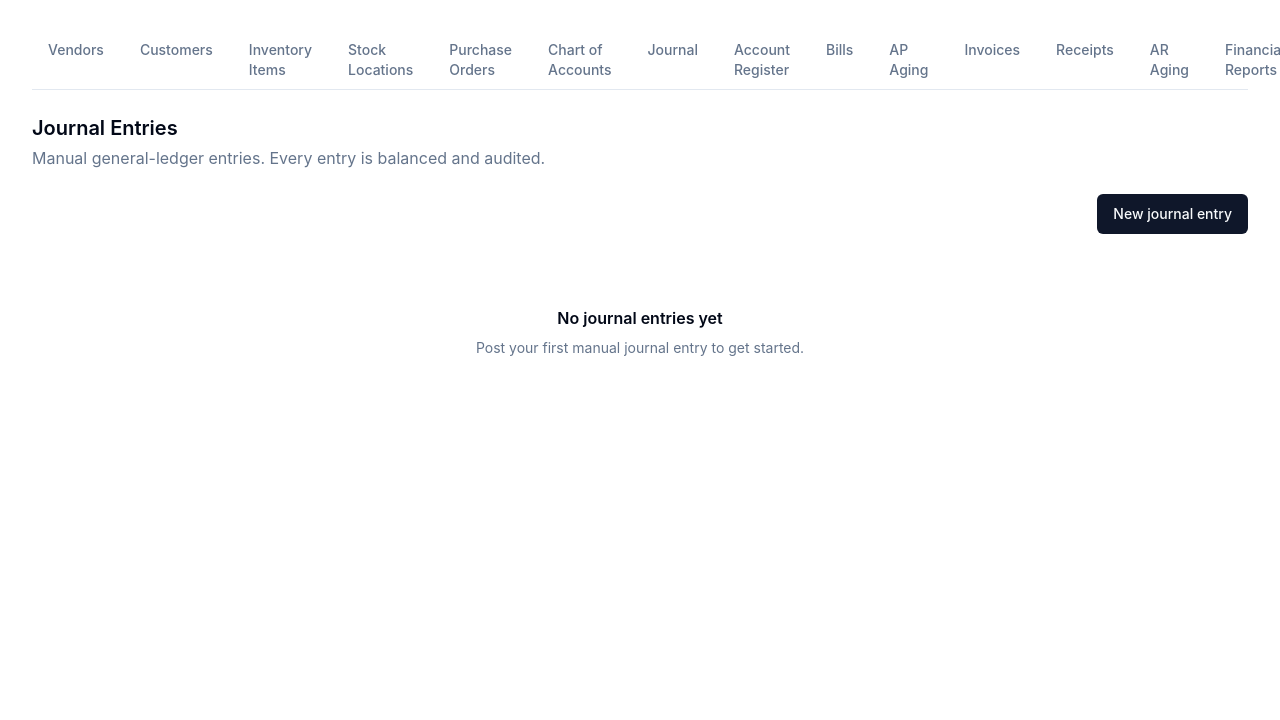
Scenario: JournalEntries screen › opens the dialog and appends a line
The width and height of the screenshot is (1280, 720).
Click the button "New journal entry" at x=1173, y=214, box [1097, 194, 1248, 234]
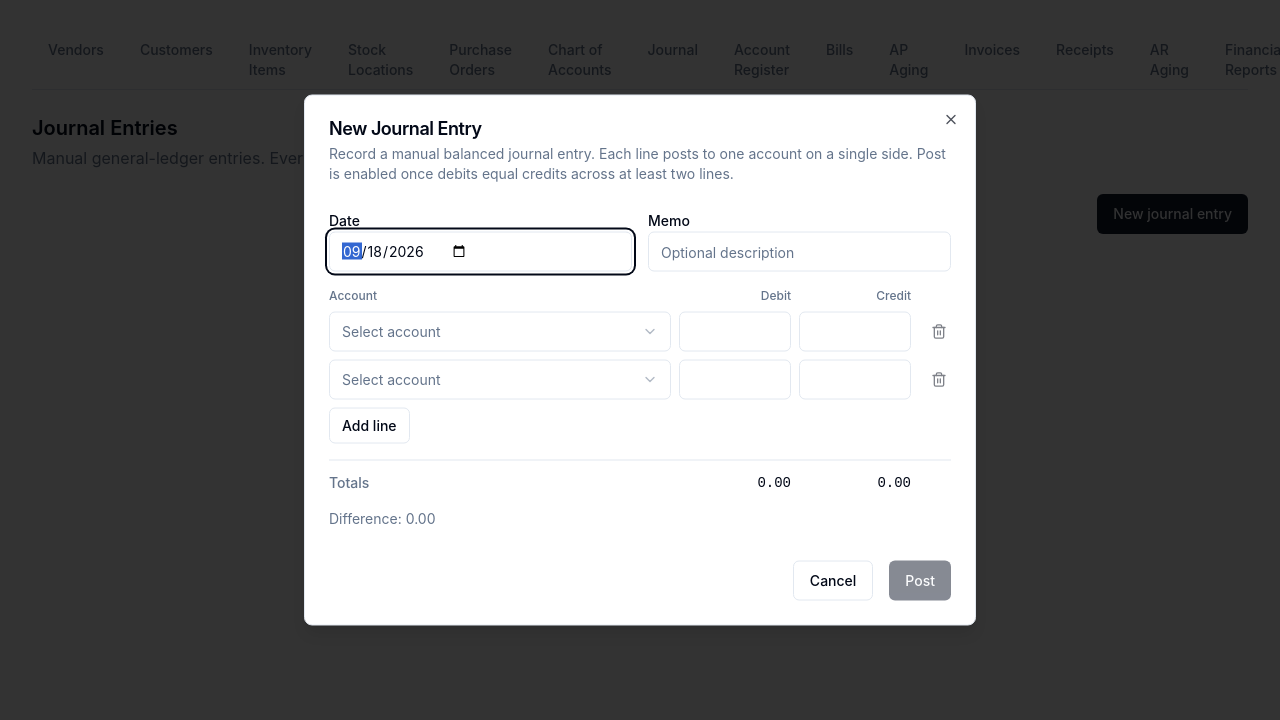
Result: the heading "New Journal Entry" is shown at [329, 118, 482, 138]
Result: the dropdown named "Line 1 account" is shown at [329, 312, 671, 352]
Result: the dropdown named "Line 2 account" is shown at [329, 360, 671, 400]
Note: "Add line" appends a third line.
Click the button "Add line" at x=369, y=426, box [329, 408, 410, 444]
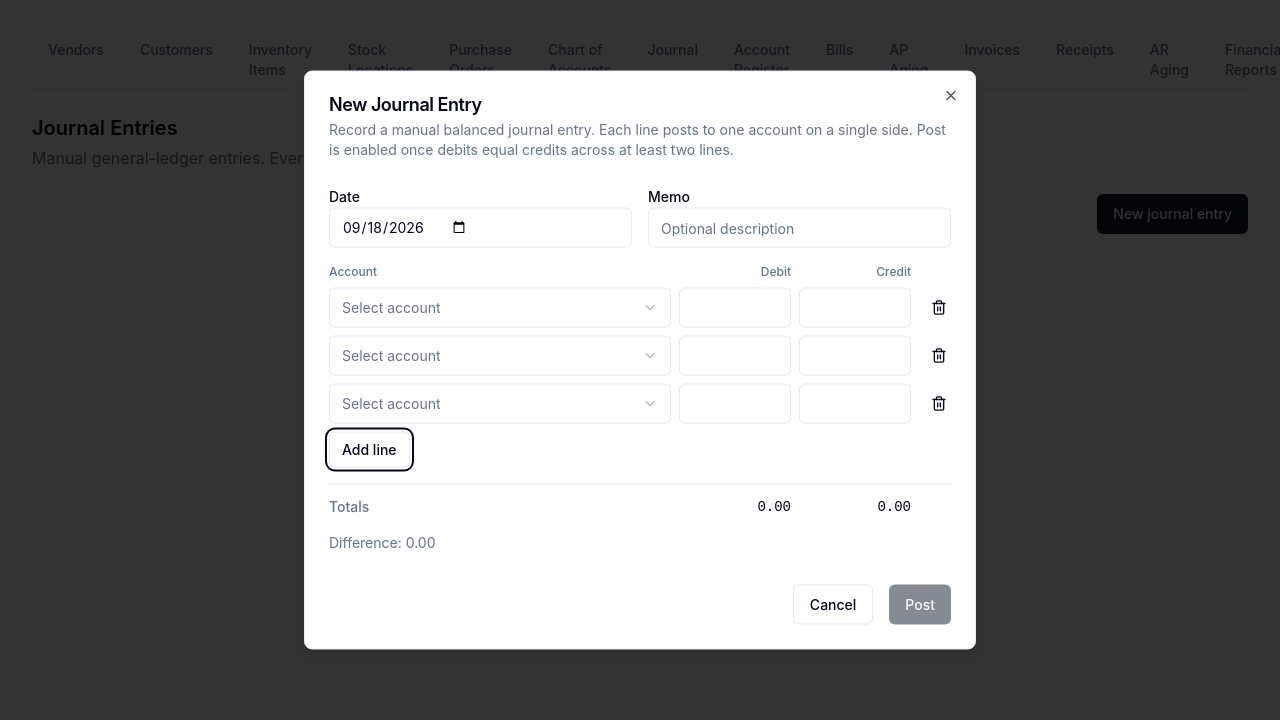
Result: the dropdown named "Line 3 account" is shown at [329, 384, 671, 424]
